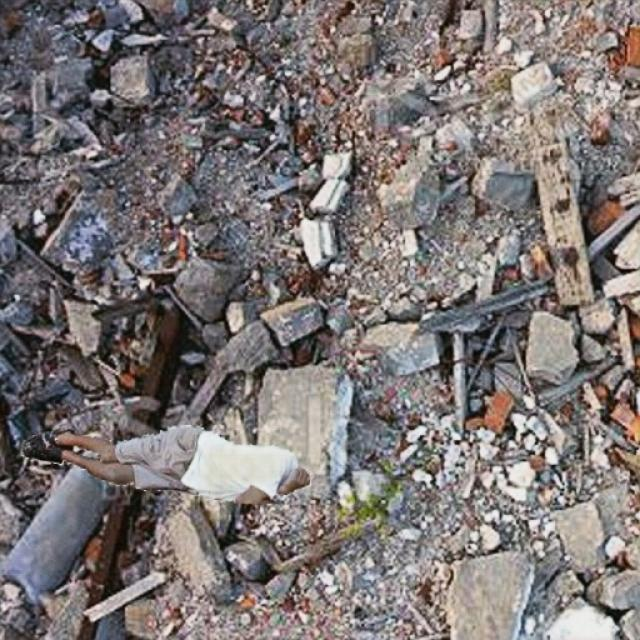Person in Rubble: (21, 425, 312, 503)
